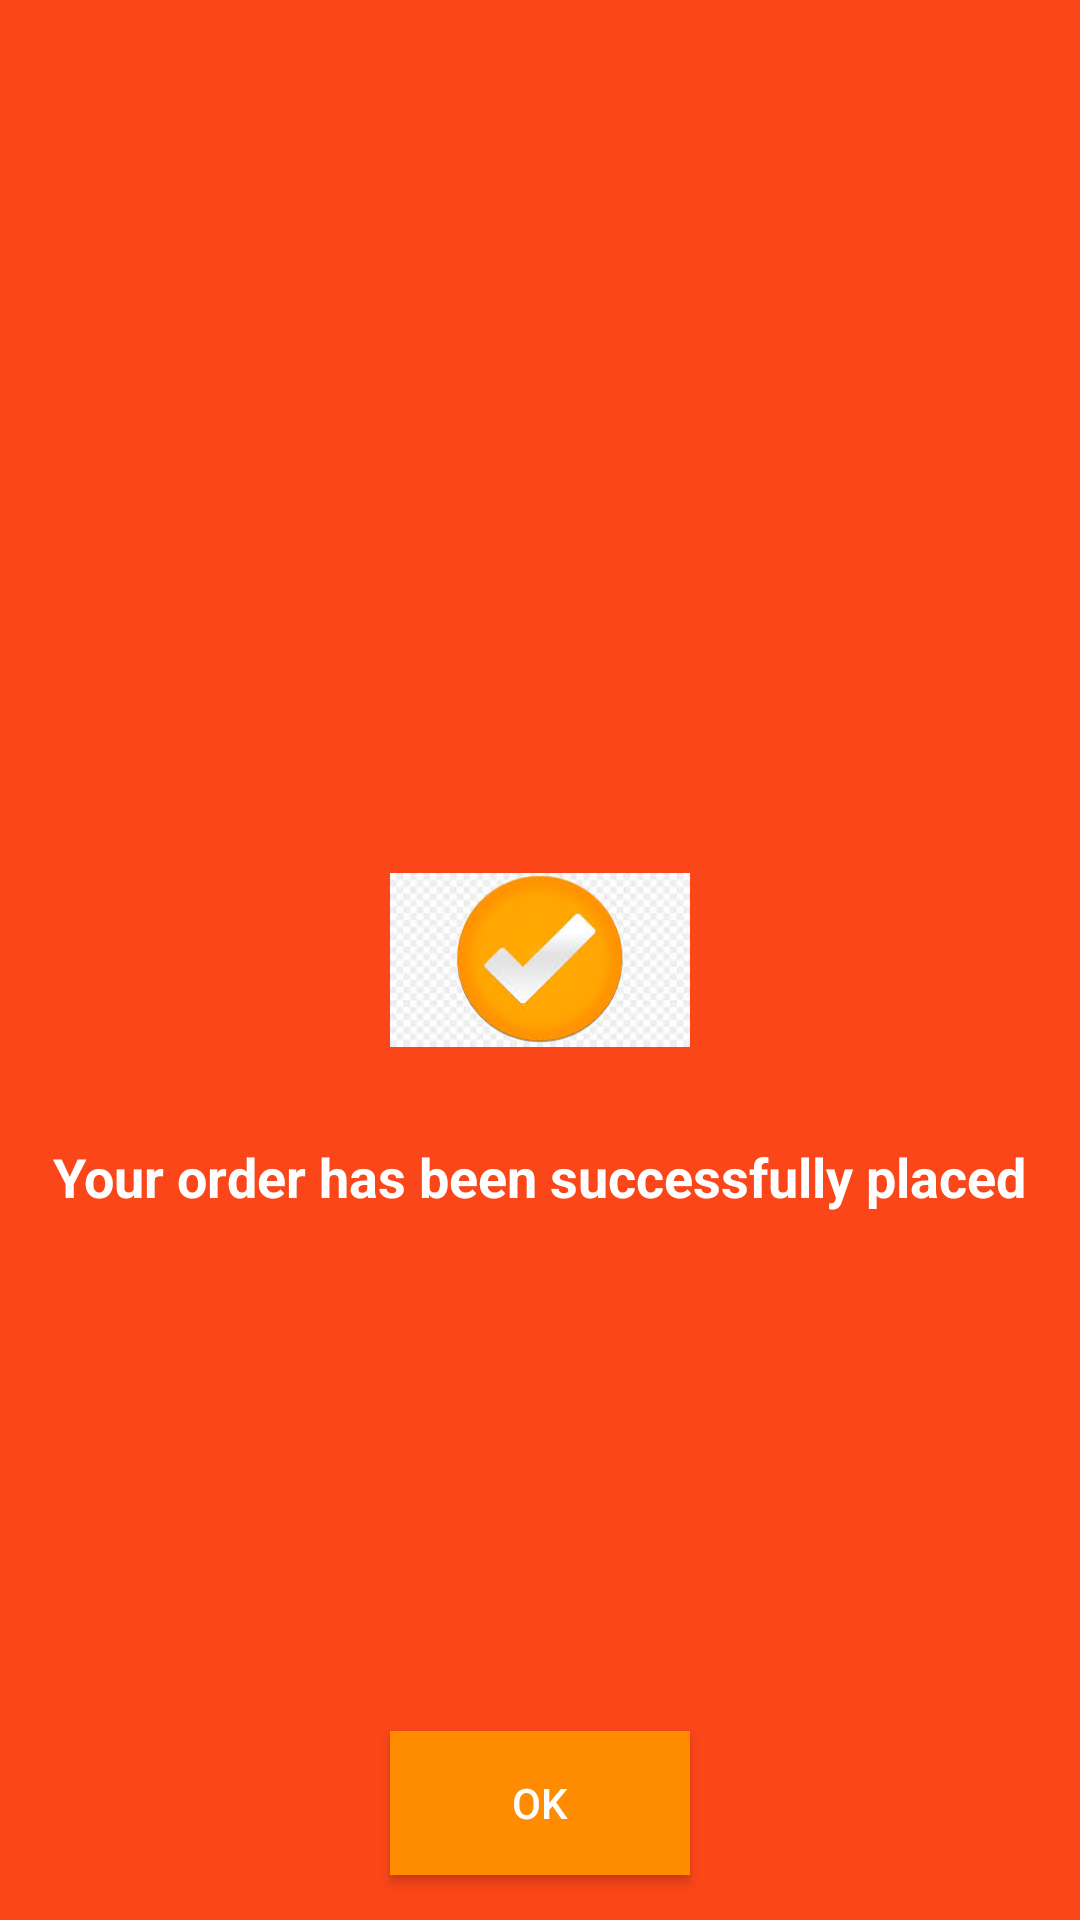

Where to tap for icons on this 1080px×1920px app screen, as [x,y]:
tick: [540,960]
